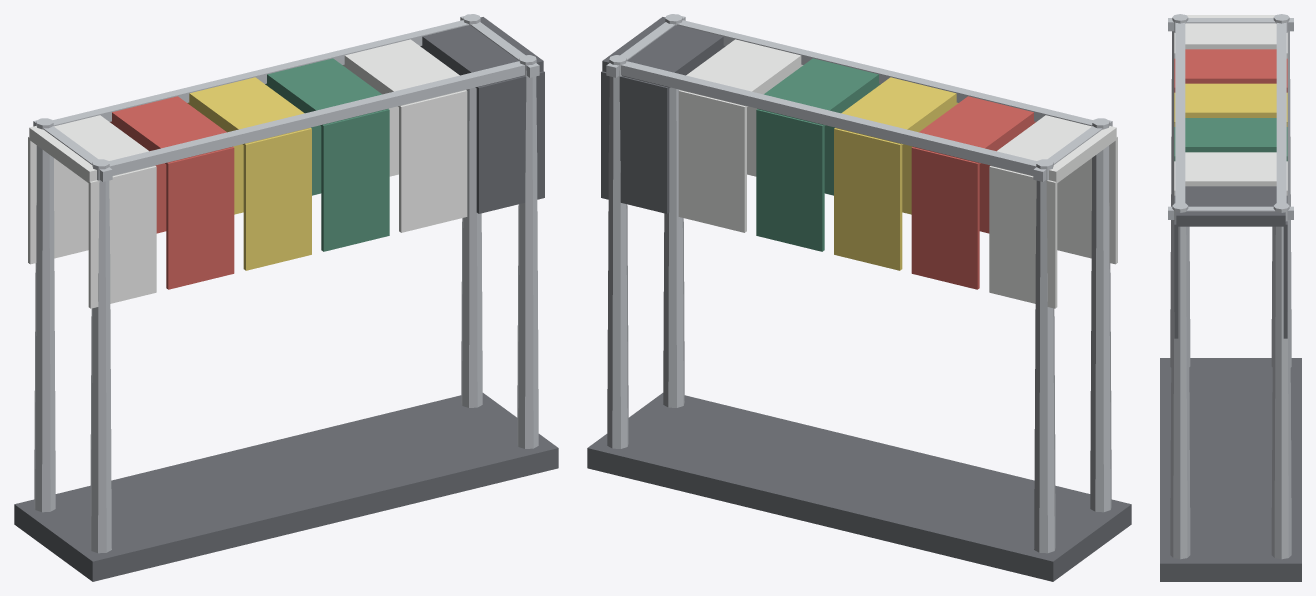
File: racecourse-and-parade-ring-number-cloth-rack-46e5a0f1__38615.glb
The picture shows the model from 3 angles, left to right: view 1: azimuth 30°, elevation 25°; view 2: azimuth 150°, elevation 25°; view 3: azimuth 270°, elevation 25°; orthographic projection. The views are drawn at different scales.
Visible parts, largest first — view 1: number-cloth-rack; view 2: number-cloth-rack; view 3: number-cloth-rack.
Part boxes in pixels (box(x1,y1,x2,y2)): number-cloth-rack: box(14, 14, 558, 581); number-cloth-rack: box(587, 14, 1131, 581); number-cloth-rack: box(1160, 14, 1301, 581).
Size of the model in its own units: 2.4 by 2 by 0.7.
